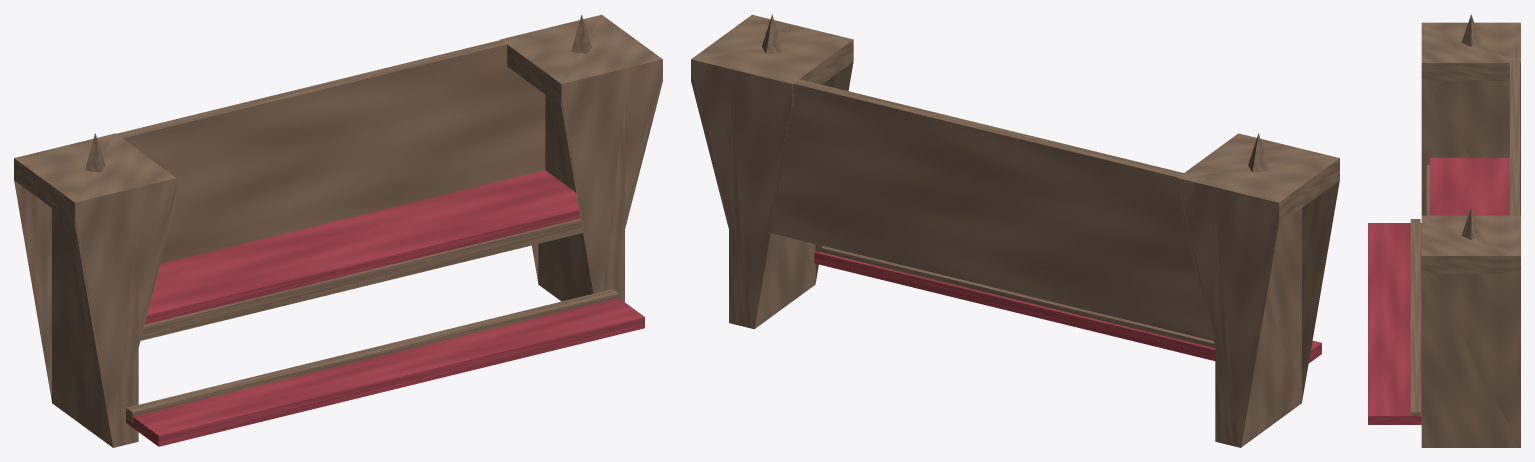
3 renders of one model, left to right at view 1: azimuth 30°, elevation 25°; view 2: azimuth 150°, elevation 25°; view 3: azimuth 270°, elevation 25°, orthographic. The views are drawn at different scales.
Visible parts, largest first — view 1: pew; view 2: pew; view 3: pew.
Part boxes in pixels (x1,y1,x2,y2): pew: (14,14,662,447); pew: (691,14,1339,447); pew: (1368,14,1520,447).
Bounding box in the file's own units: 2.78 × 1.31 × 0.77.
2 materials, 2 textured.
